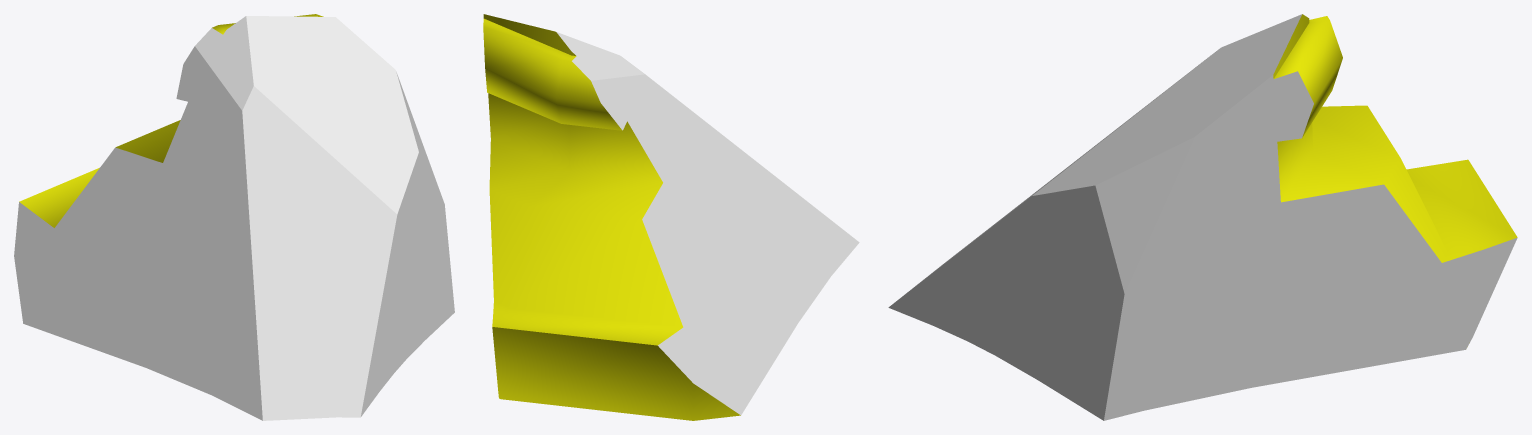
The model's file is mdl_ciudadela_casa_pilar1_fracturepart9.fbx.
3 renders of one model, left to right at view 1: azimuth 30°, elevation 25°; view 2: azimuth 150°, elevation 25°; view 3: azimuth 270°, elevation 25°, orthographic. The views are drawn at different scales.
Visible parts, largest first — view 1: mdl_ciudadela_casa_pilar1_fracturepart9; view 2: mdl_ciudadela_casa_pilar1_fracturepart9; view 3: mdl_ciudadela_casa_pilar1_fracturepart9.
Boxes of the visible parts, x1,y1,x2,y2 form: mdl_ciudadela_casa_pilar1_fracturepart9: (14,14,454,420); mdl_ciudadela_casa_pilar1_fracturepart9: (483,14,859,420); mdl_ciudadela_casa_pilar1_fracturepart9: (888,14,1517,420).
Bounding box in the file's own units: 0.7297 × 0.6045 × 1.
